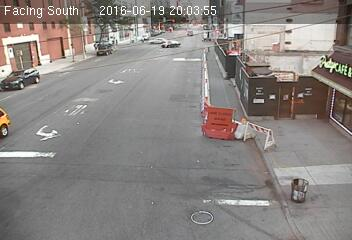neg: (105, 83, 134, 123), (228, 51, 252, 83), (220, 93, 242, 121), (151, 51, 172, 79), (287, 74, 308, 101), (255, 128, 275, 156), (279, 168, 297, 192)
